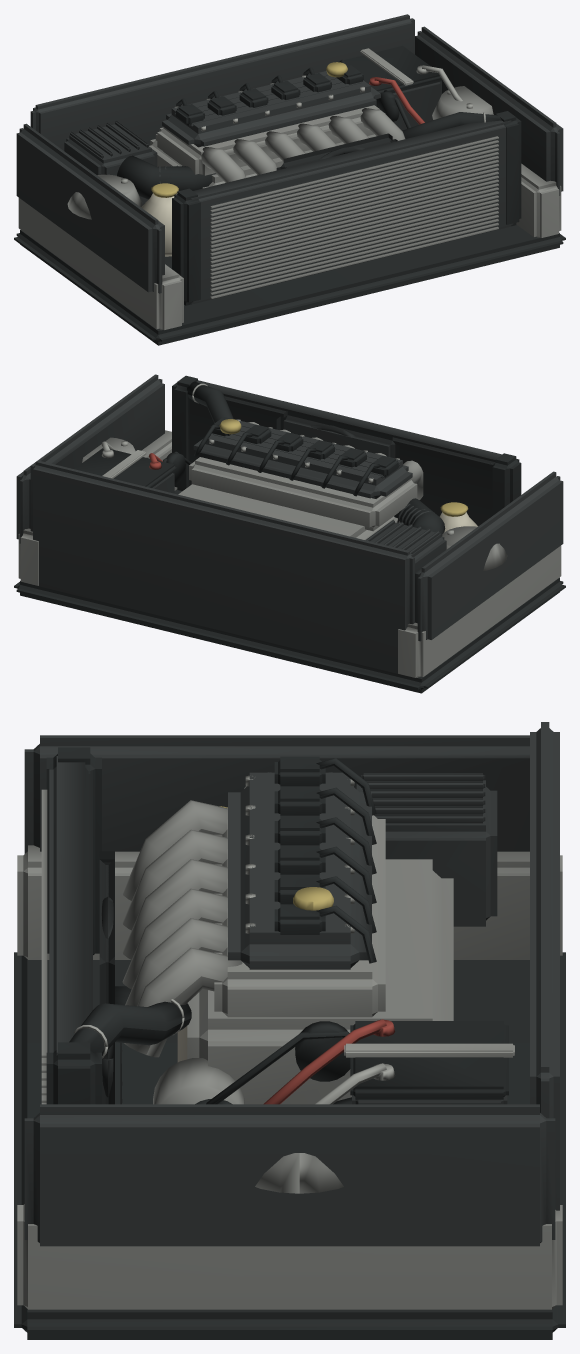
File: engine-diesel.glb
3 renders of one model, top to bottom at view 1: azimuth 30°, elevation 25°; view 2: azimuth 150°, elevation 25°; view 3: azimuth 270°, elevation 25°, orthographic. The views are drawn at different scales.
Visible parts, largest first — view 1: Frame; view 2: Frame; view 3: Frame.
Part boxes in pixels (left/top/right/bottom): Frame: left=14, top=14, right=565, bottom=345; Frame: left=14, top=374, right=565, bottom=693; Frame: left=14, top=722, right=565, bottom=1339.
Bounding box in the file's own units: 1.49 × 0.537 × 0.87.
